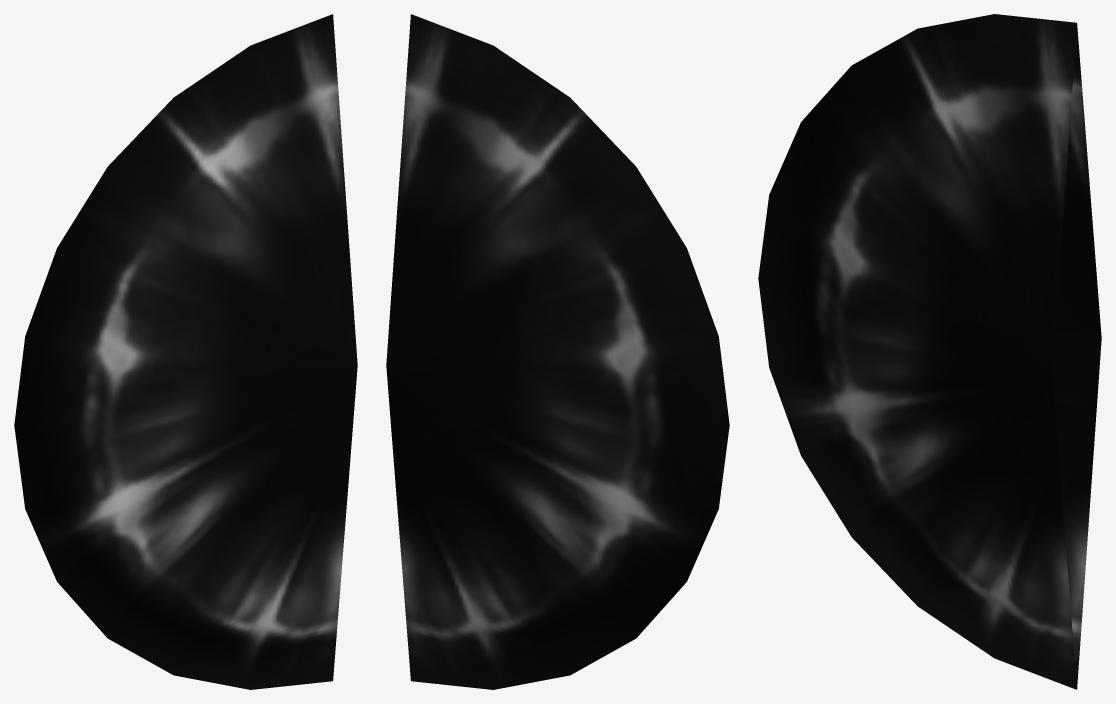
The model's file is disus03.FBX.
The picture shows the model from 3 angles, left to right: view 1: azimuth 30°, elevation 25°; view 2: azimuth 150°, elevation 25°; view 3: azimuth 330°, elevation 25°; orthographic projection.
Visible parts, largest first — view 1: Cone003; view 2: Cone003; view 3: Cone003.
Part boxes in pixels (x1,y1,x2,y2): Cone003: (14,14,357,689); Cone003: (386,14,729,689); Cone003: (758,14,1101,689).
Bounding box in the file's own units: 19.05 × 38.09 × 5.09.
